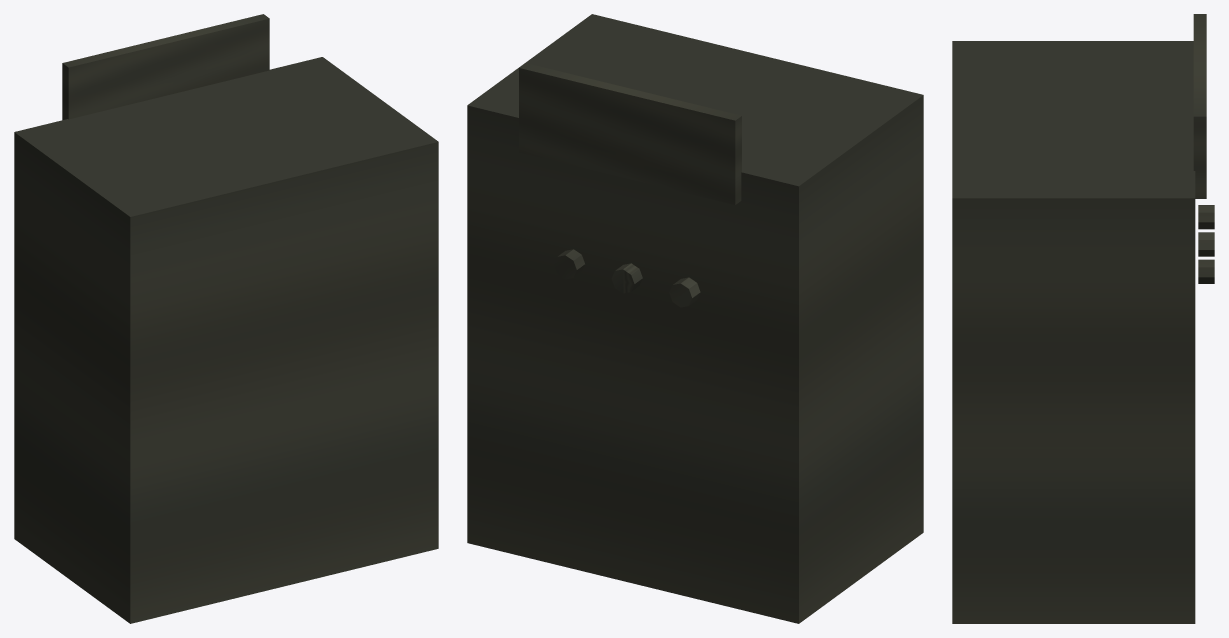
File: env_bldg_hq_fortress_3f_a.glb
The picture shows the model from 3 angles, left to right: view 1: azimuth 30°, elevation 25°; view 2: azimuth 150°, elevation 25°; view 3: azimuth 270°, elevation 25°; orthographic projection. The views are drawn at different scales.
Parts seen in each view (by area): view 1: env_bldg_hq_fortress_3f_a; view 2: env_bldg_hq_fortress_3f_a; view 3: env_bldg_hq_fortress_3f_a.
Boxes of the visible parts, x1,y1,x2,y2 form: env_bldg_hq_fortress_3f_a: (14,14,438,623); env_bldg_hq_fortress_3f_a: (467,14,923,623); env_bldg_hq_fortress_3f_a: (952,14,1214,623).
Bounding box in the file's own units: 1.15 × 1.66 × 0.81.
Materials: 1 (1 with a texture image).
